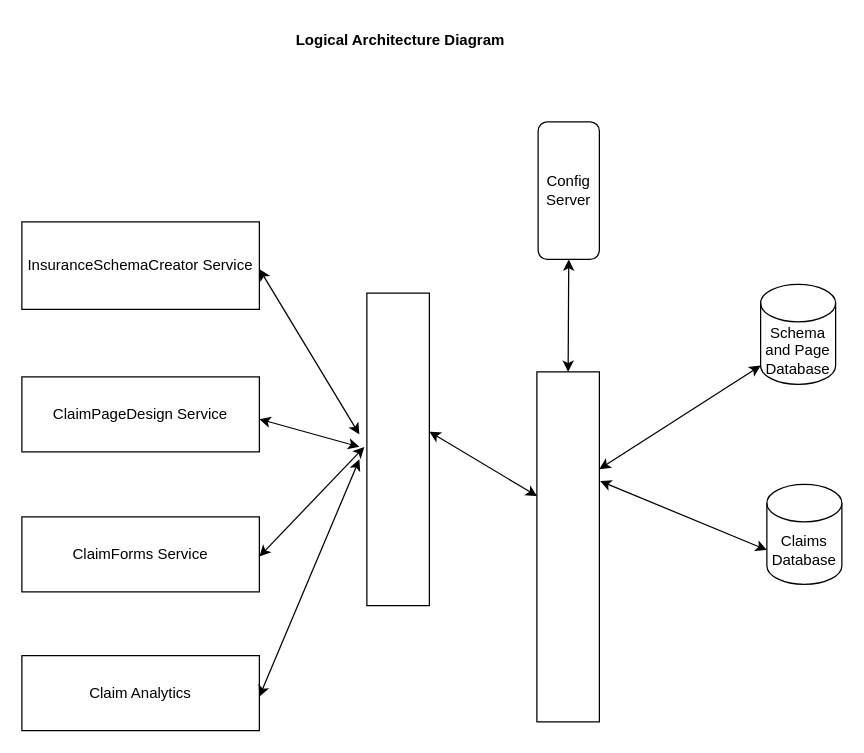
This 864x753 diagram has some shape labels left out. Each missing label, with the box of its shape:
A P I G A T E W A Y: (536, 371, 599, 722)
Load Balancer: (366, 292, 429, 606)
